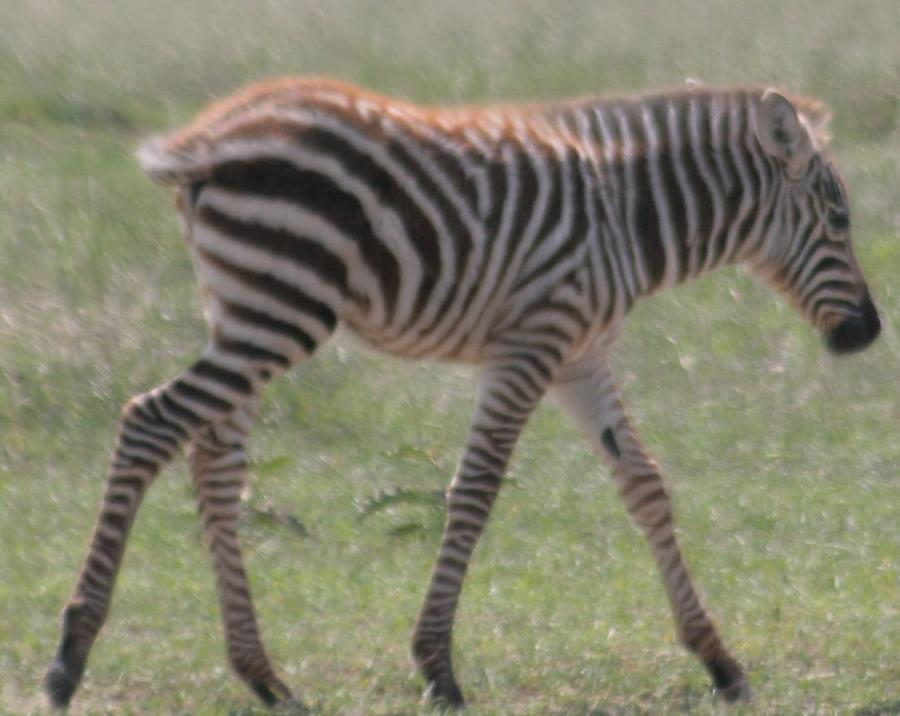zebra_plains: (123, 55, 681, 411)
